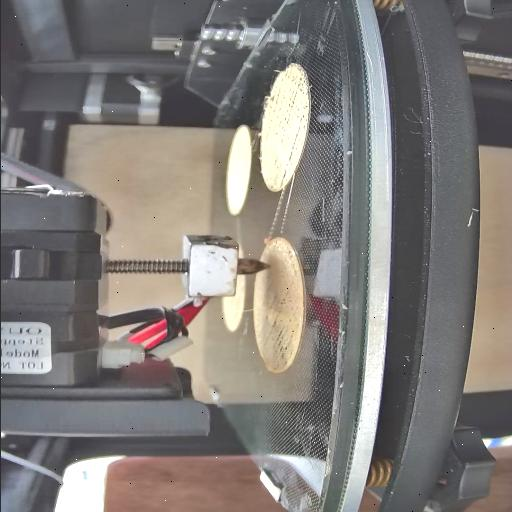under_extrusion: (262, 72, 308, 166), (264, 293, 296, 369), (282, 244, 302, 278), (271, 170, 290, 190)
